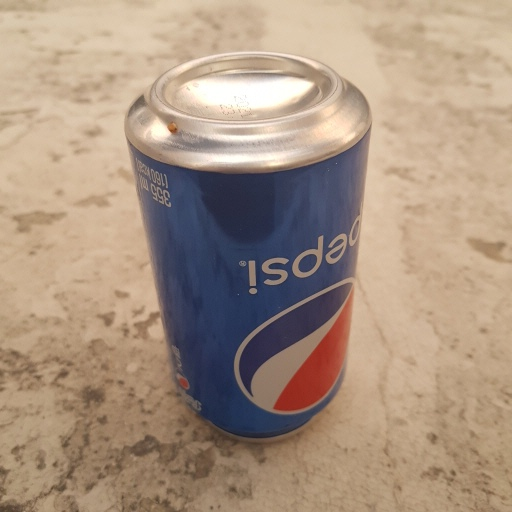Metal_0: (128, 48, 373, 441)
